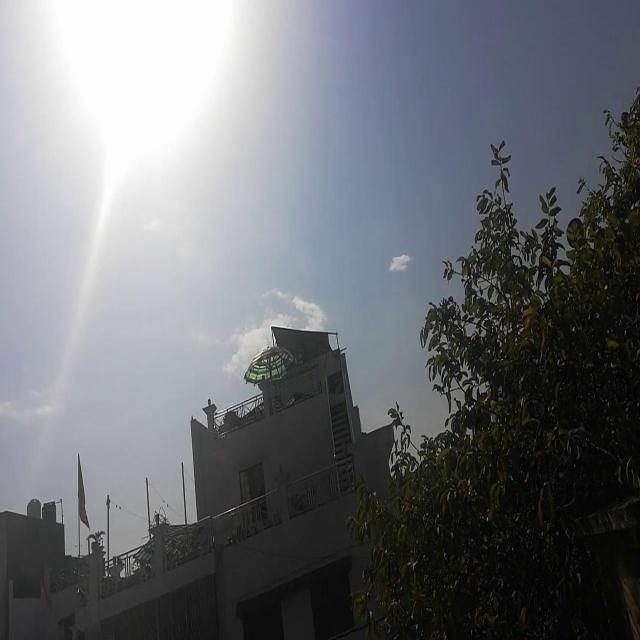other: (43, 0, 248, 236)
